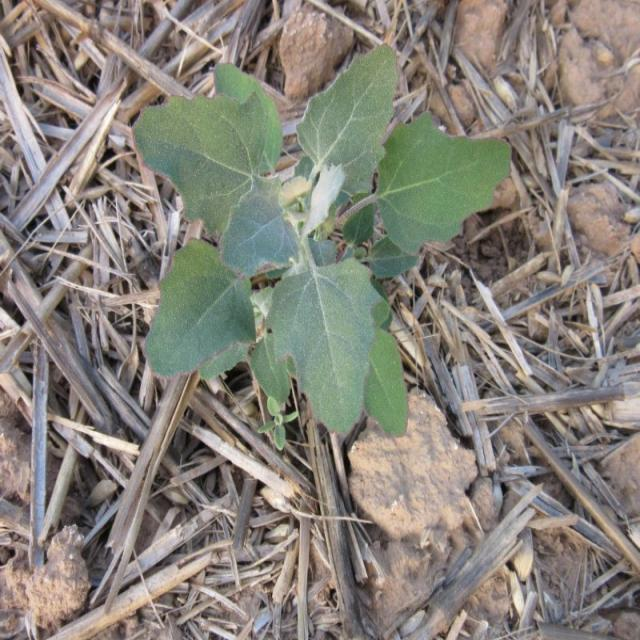ca: (128, 44, 512, 451)
